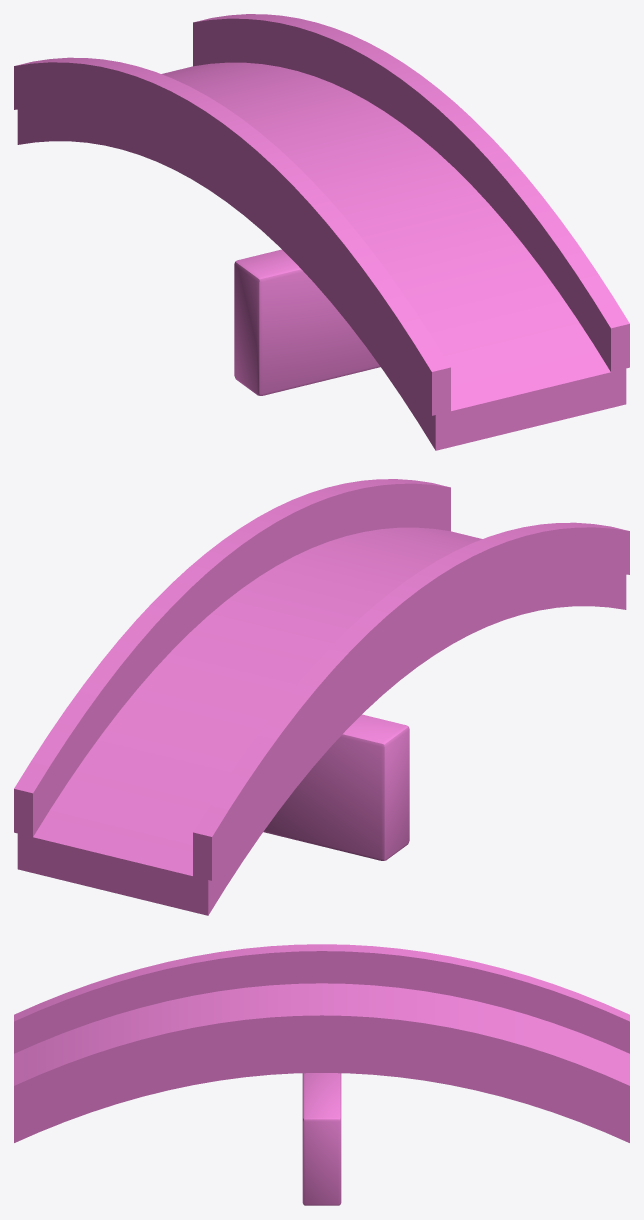
The model's file is OldTown_Footbridge.fbx.
3 views of the same model, one above another, from view 1: azimuth 30°, elevation 25°; view 2: azimuth 150°, elevation 25°; view 3: azimuth 270°, elevation 25° (orthographic). The views are drawn at different scales.
Visible parts, largest first — view 1: Footbridge; view 2: Footbridge; view 3: Footbridge.
Boxes of the visible parts, x1=… form: Footbridge: x1=14, y1=14, x2=629, y2=450; Footbridge: x1=14, y1=479, x2=629, y2=915; Footbridge: x1=14, y1=944, x2=629, y2=1205.
Size of the model in its own units: 5.2 by 6.8 by 19.
Materials: 1 (1 with a texture image).
